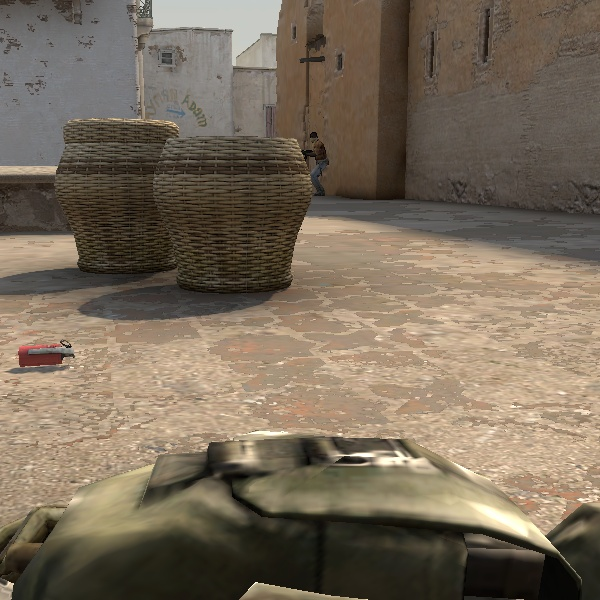t_body: (303, 131, 330, 195)
t_head: (310, 132, 319, 145)
